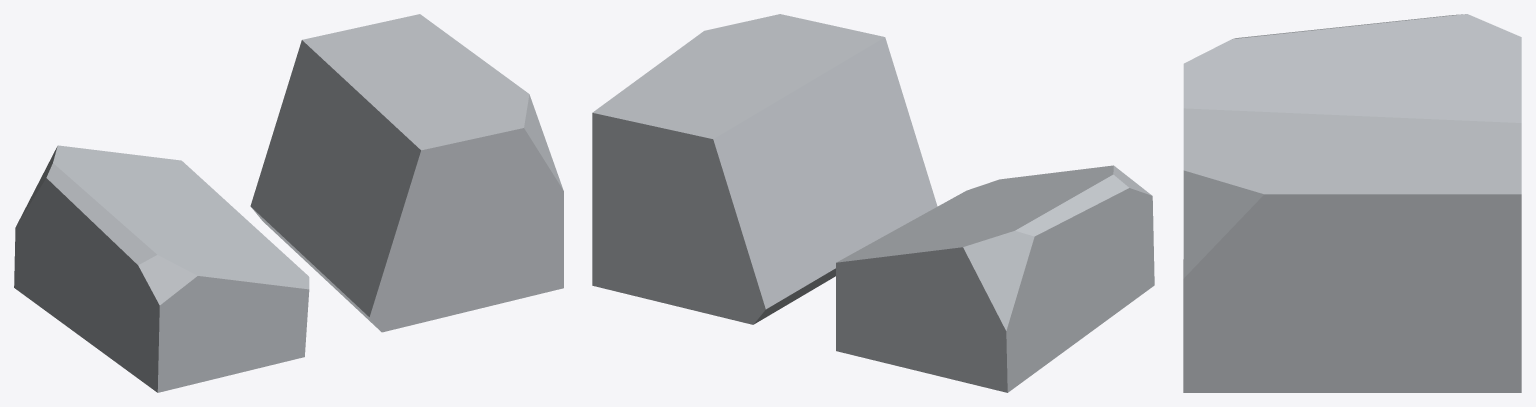
File: Rock_Square_crk_s_05.fbx
3 renders of one model, left to right at view 1: azimuth 30°, elevation 25°; view 2: azimuth 150°, elevation 25°; view 3: azimuth 270°, elevation 25°, orthographic. The views are drawn at different scales.
Parts seen in each view (by area): view 1: Rock_Square_crk_s_05; view 2: Rock_Square_crk_s_05; view 3: Rock_Square_crk_s_05.
Part boxes in pixels (<box>): Rock_Square_crk_s_05: <box>14,14,563,392</box>; Rock_Square_crk_s_05: <box>592,14,1154,392</box>; Rock_Square_crk_s_05: <box>1183,14,1521,392</box>.
Size of the model in its own units: 63.23 by 26.55 by 38.79.
